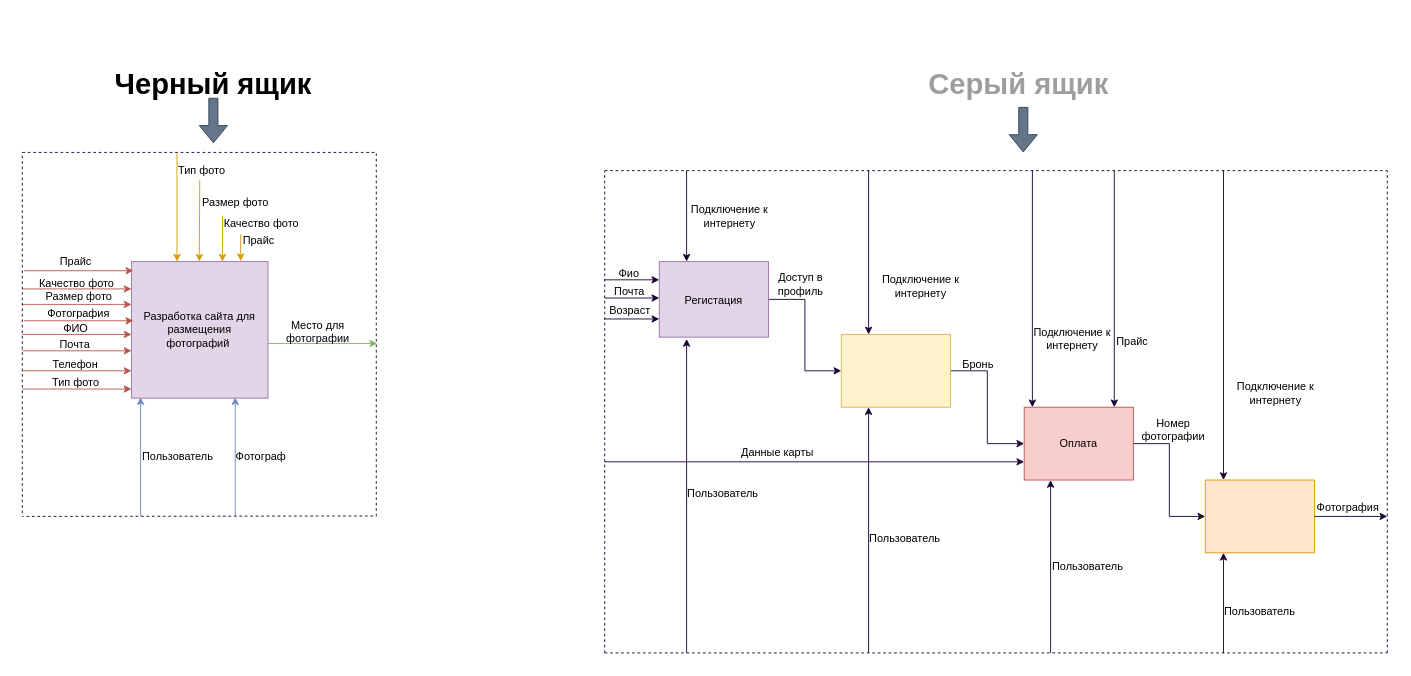
Some shapes in this 1411 by 676 pixel diagram are drawn without their labels. The shapes that lost their labels are listed below. From the top down, each one's centre as x and y in pixels, then its label:
point (895, 370): Выбор
point (1259, 516): Скачивание
